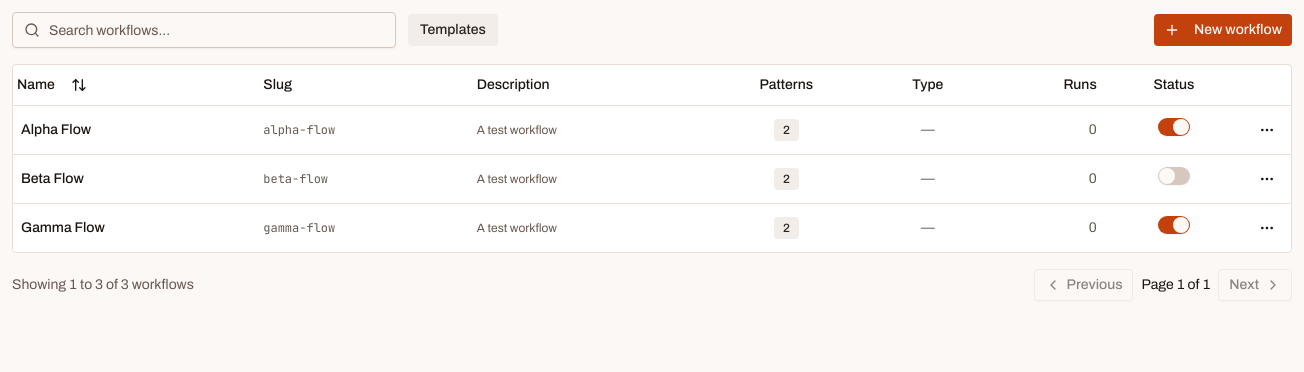
it: WorkflowsTable › status switch optimistic update › reverts switch and shows error banner on PATCH failure
Click the switch named "Toggle Alpha Flow active". click: (1174, 127)
box: [1158, 118, 1190, 136]
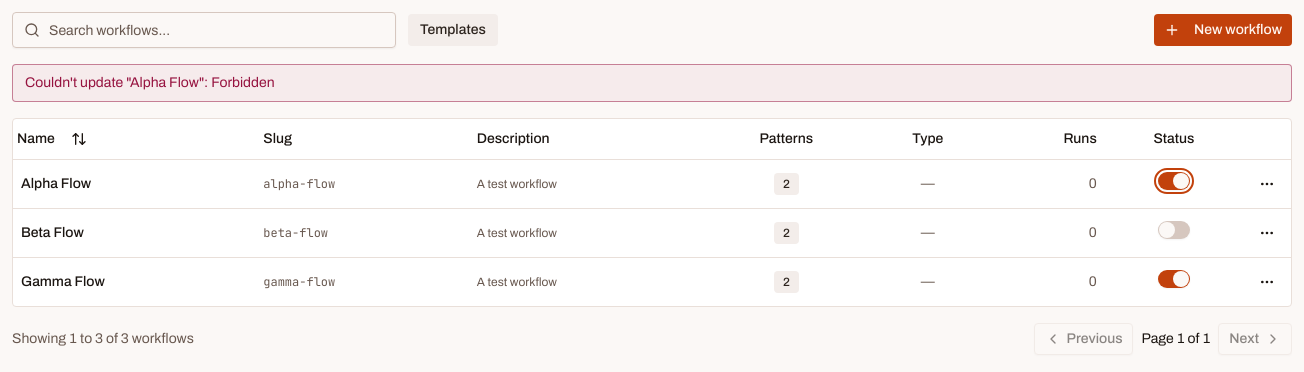
Expected: the text "Couldn't update \"Alpha Flow\": Forbidden" is shown, [12, 64, 1292, 102]
